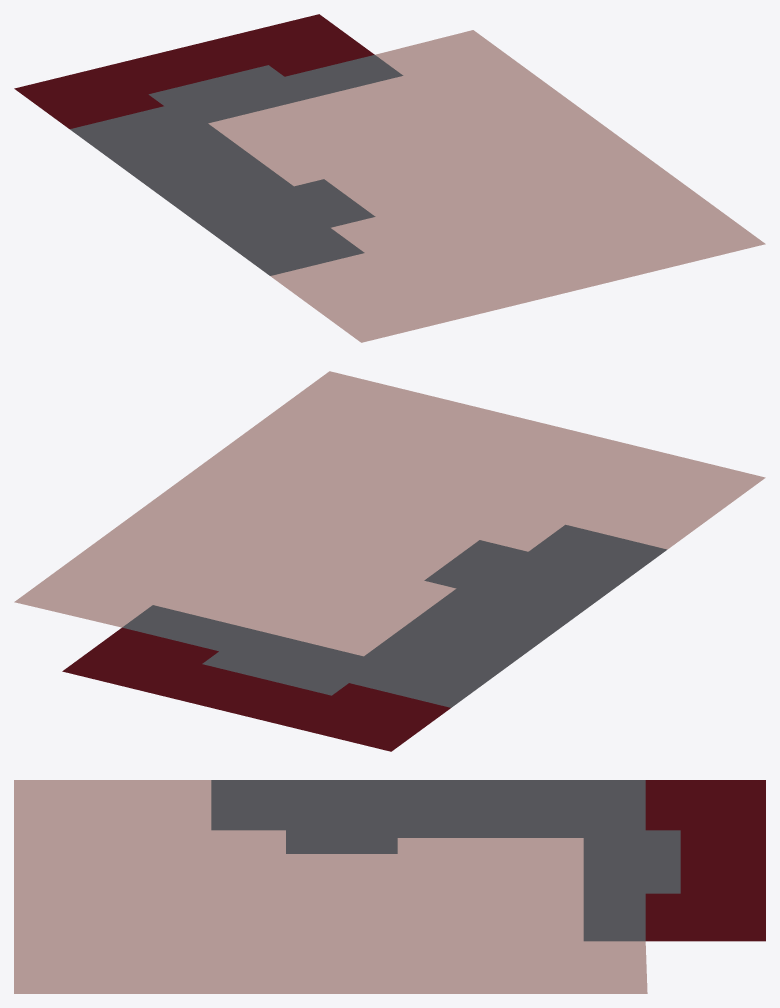
The model's file is SM_Floor_01.fbx.
The picture shows the model from 3 angles, top to bottom: view 1: azimuth 30°, elevation 25°; view 2: azimuth 150°, elevation 25°; view 3: azimuth 270°, elevation 25°; orthographic projection. The views are drawn at different scales.
Visible parts, largest first — view 1: 平面.007; view 2: 平面.007; view 3: 平面.007.
Part boxes in pixels (x1,y1,x2,y2): 平面.007: (14,14,765,342); 平面.007: (14,371,765,751); 平面.007: (14,780,765,993).
Bounding box in the file's own units: 2690 × 0.000652 × 4000.
